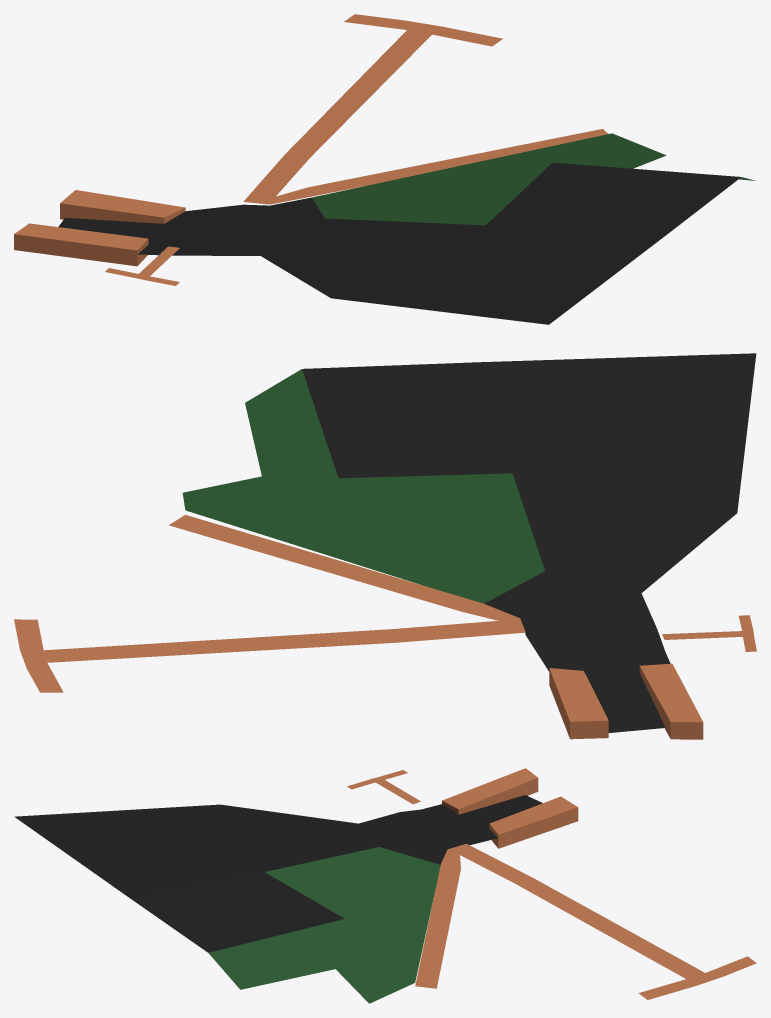
The model's file is boatramp4.glb.
3 views of the same model, one above another, from view 1: azimuth 30°, elevation 25°; view 2: azimuth 150°, elevation 25°; view 3: azimuth 270°, elevation 25° (orthographic). The views are drawn at different scales.
Visible parts, largest first — view 1: Boat Launch, Boat Launch.001; view 2: Boat Launch, Boat Launch.001; view 3: Boat Launch, Boat Launch.001.
Part boxes in pixels (left/top/right/bottom): Boat Launch: left=58, top=133, right=755, bottom=324; Boat Launch.001: left=14, top=14, right=607, bottom=285; Boat Launch: left=182, top=353, right=756, bottom=732; Boat Launch.001: left=14, top=515, right=756, bottom=739; Boat Launch: left=14, top=795, right=542, bottom=1003; Boat Launch.001: left=347, top=768, right=756, bottom=999.
Bounding box in the file's own units: 0.2349 × 0.0307 × 0.2968.
